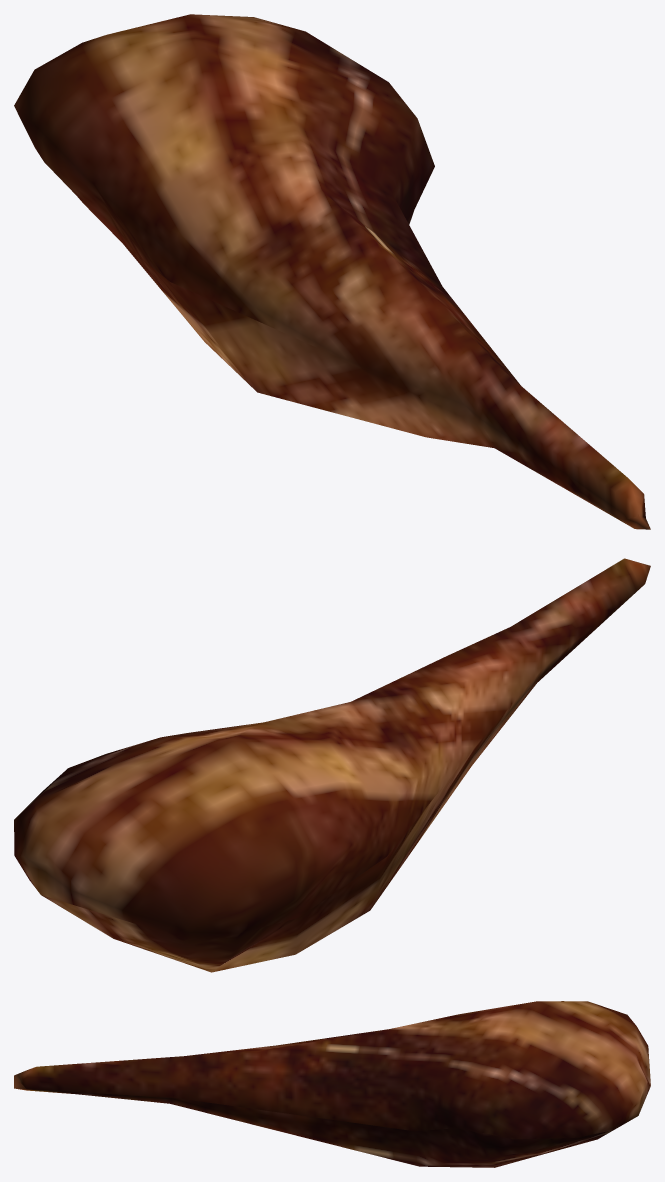
File: KM_COOKED_MEAT_03.glb
The picture shows the model from 3 angles, top to bottom: view 1: azimuth 30°, elevation 25°; view 2: azimuth 150°, elevation 25°; view 3: azimuth 270°, elevation 25°; orthographic projection. The views are drawn at different scales.
Visible parts, largest first — view 1: Mesh; view 2: Mesh; view 3: Mesh.
Boxes of the visible parts, x1=… form: Mesh: x1=14, y1=14, x2=650, y2=529; Mesh: x1=14, y1=558, x2=650, y2=972; Mesh: x1=14, y1=1001, x2=650, y2=1167.
Size of the model in its own units: 0.1584 by 0.1308 by 0.4685.
1 material, 1 textured.
